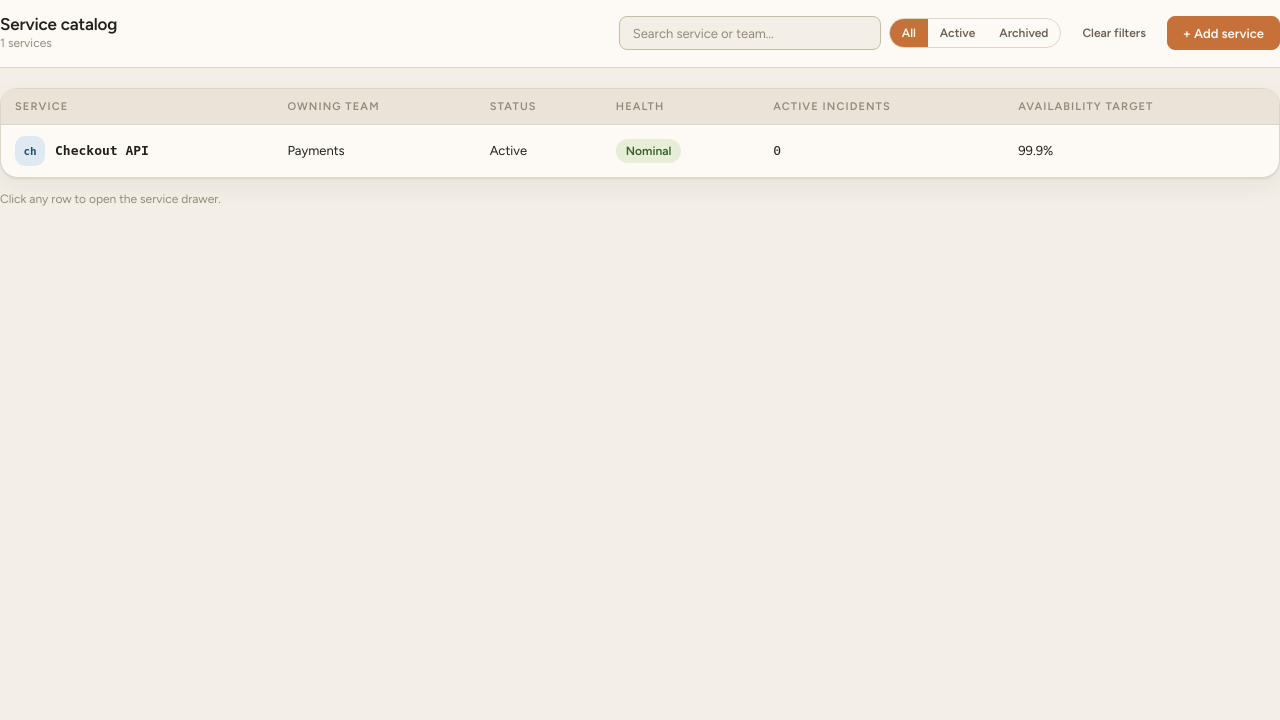
Test: ServicesPage › catalog management › rejects a non-numeric availability target instead of sending NaN
expect the text "Checkout API" is shown: met, box 55,141 -> 149,161
Click the button "+ Add service" at (1223, 34), box 1167,16 -> 1279,50
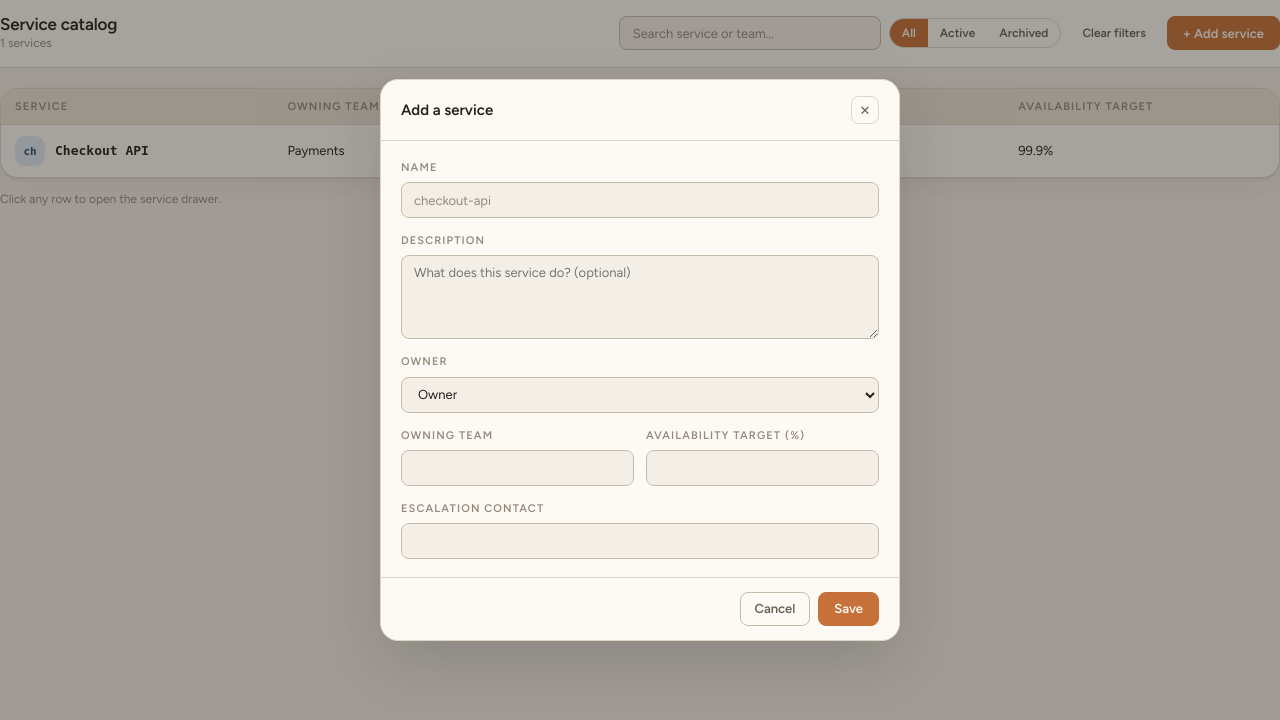
Type "x" into the field labelled "Name" at (640, 200), box 401,182 -> 879,218
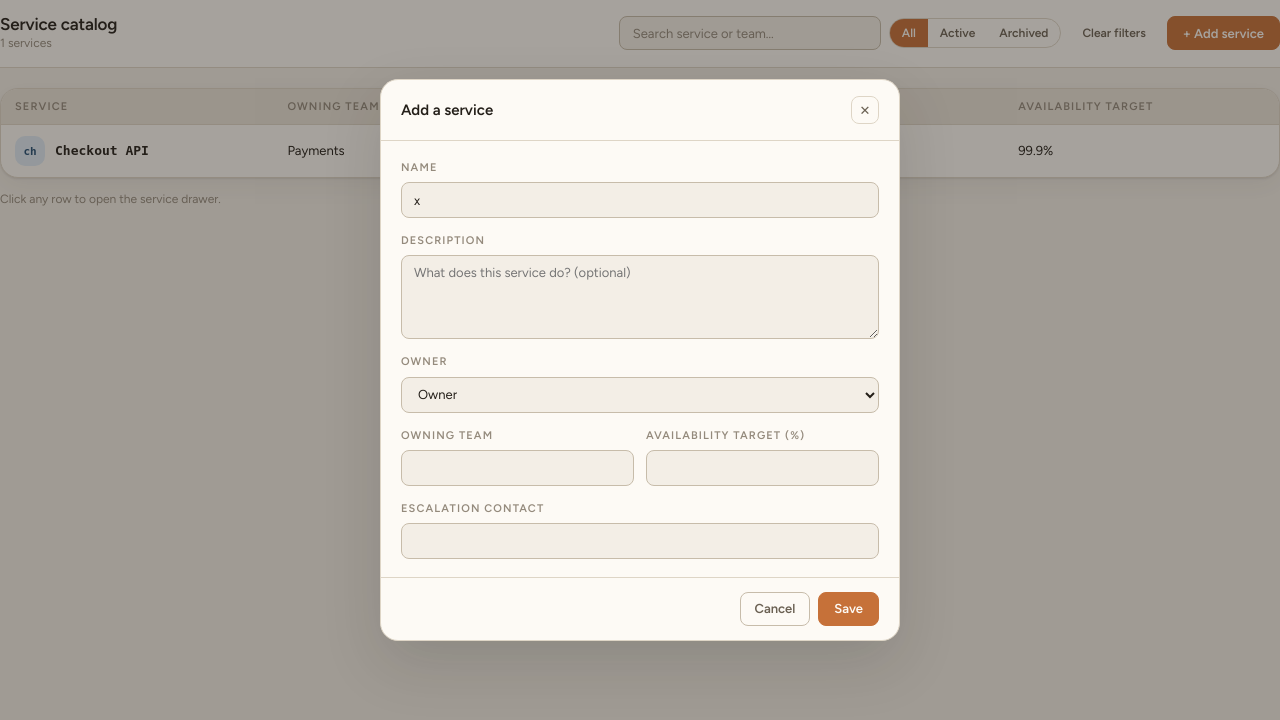
Select "Owner" in the dropdown labelled "Owner" at (640, 394), box 401,376 -> 879,412
Type "ninety" into the field labelled "Availability target (%)" at (762, 468), box 646,450 -> 879,486
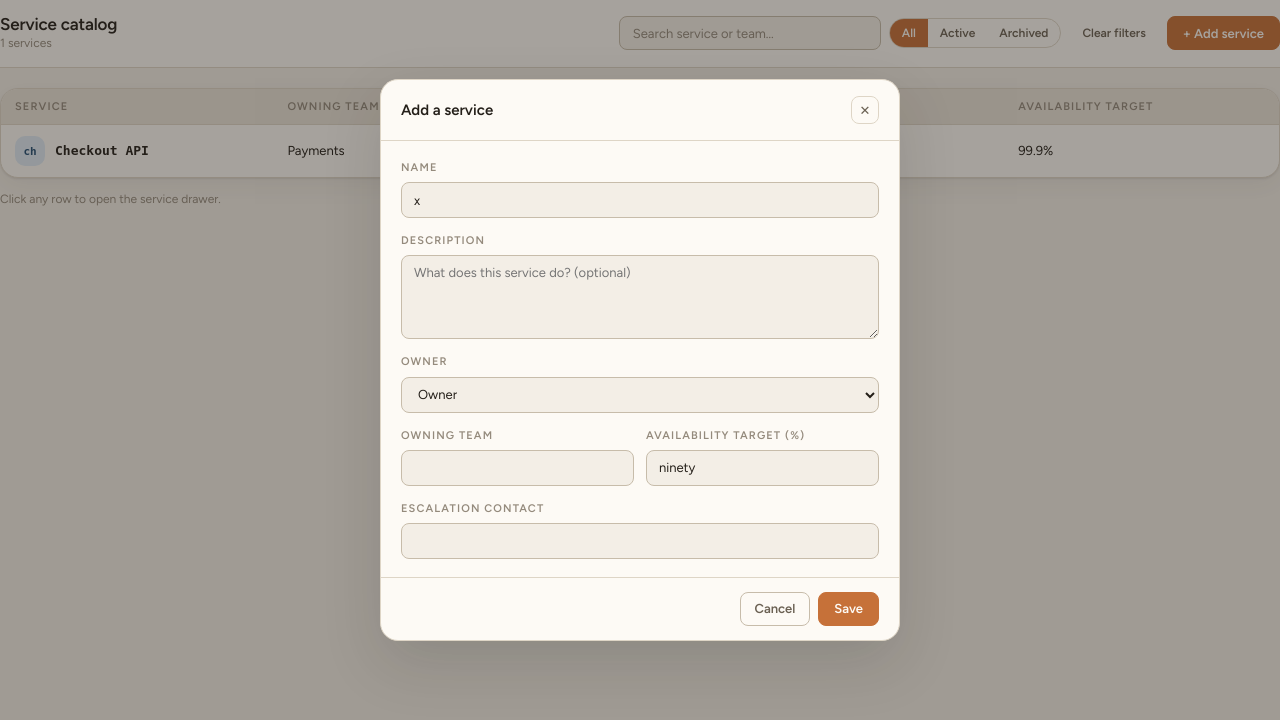
Click the button "Save" at (849, 609), box 818,592 -> 879,626
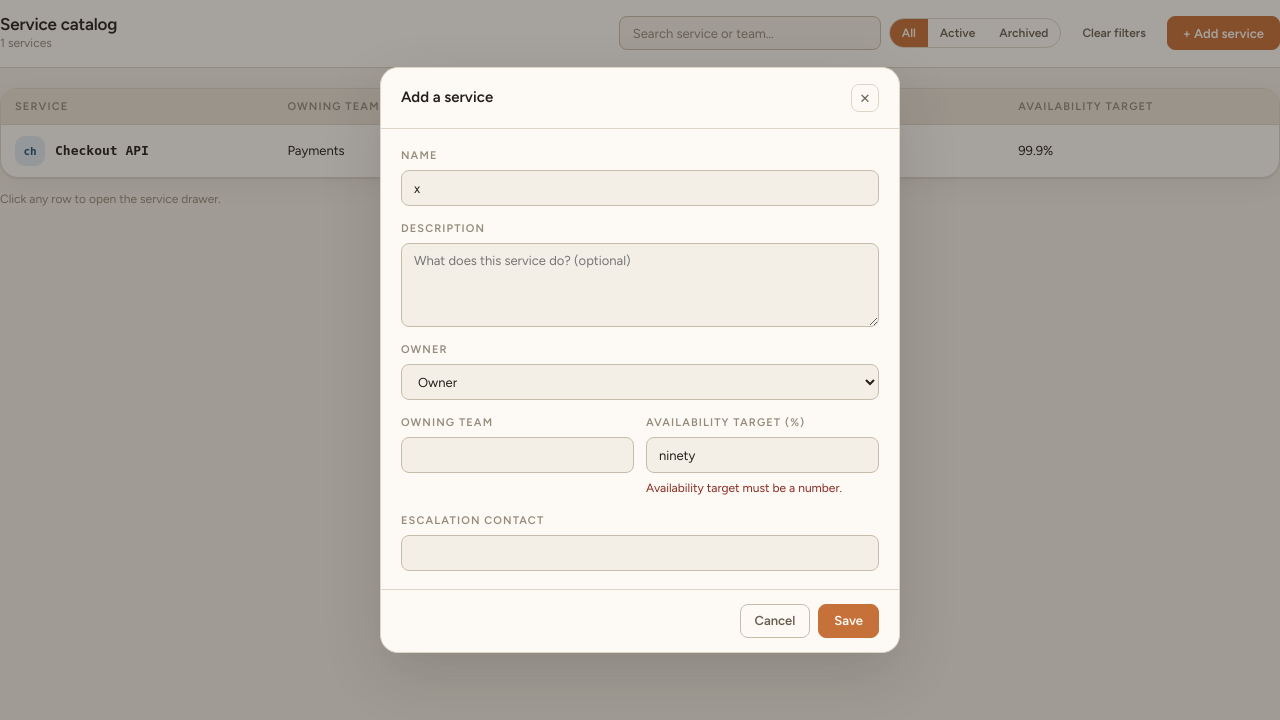
expect the text "Availability target must be a number." is shown: met, box 646,481 -> 842,495
